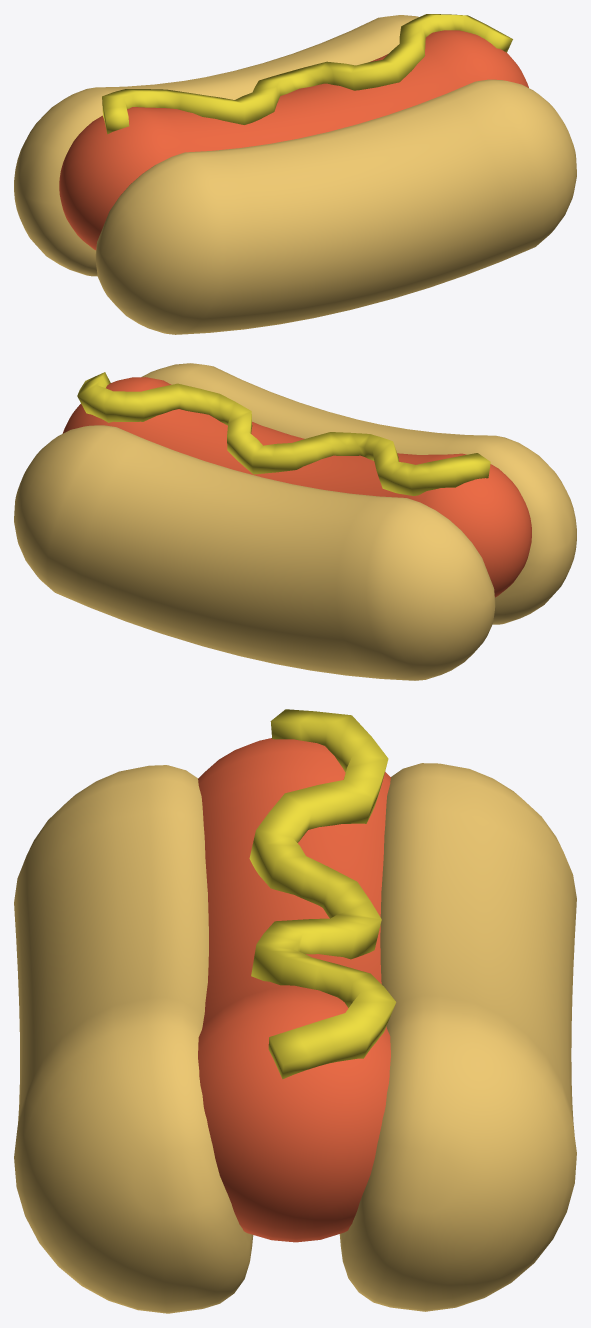
File: Hot_Dog (2).fbx
3 renders of one model, top to bottom at view 1: azimuth 30°, elevation 25°; view 2: azimuth 150°, elevation 25°; view 3: azimuth 270°, elevation 25°, orthographic. The views are drawn at different scales.
Visible parts, largest first — view 1: Hot_Dog; view 2: Hot_Dog; view 3: Hot_Dog.
Boxes of the visible parts, <box> form: Hot_Dog: <box>14,14,576,334</box>; Hot_Dog: <box>14,363,576,680</box>; Hot_Dog: <box>14,709,576,1313</box>.
Bounding box in the file's own units: 206 × 90.14 × 132.
